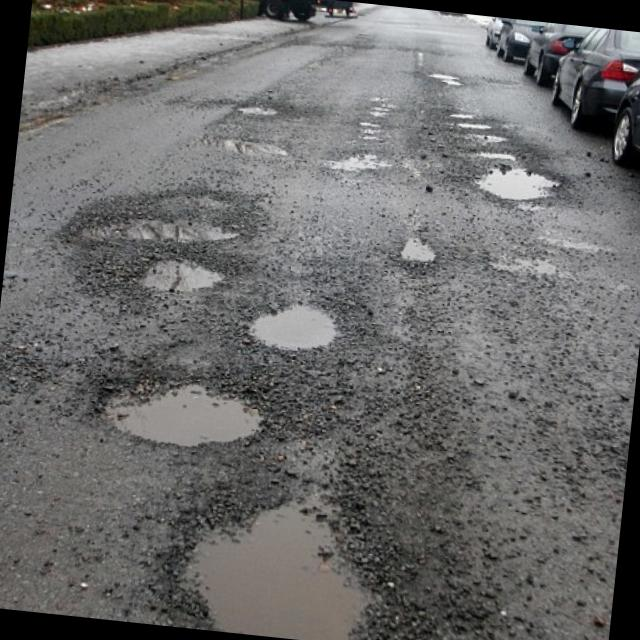Potholes: (147, 484, 404, 640), (92, 343, 308, 471), (65, 191, 265, 270), (246, 281, 358, 378), (319, 70, 402, 200), (121, 245, 242, 308), (436, 98, 525, 174), (207, 123, 306, 184), (474, 161, 554, 217), (225, 92, 298, 132), (422, 64, 464, 93)
